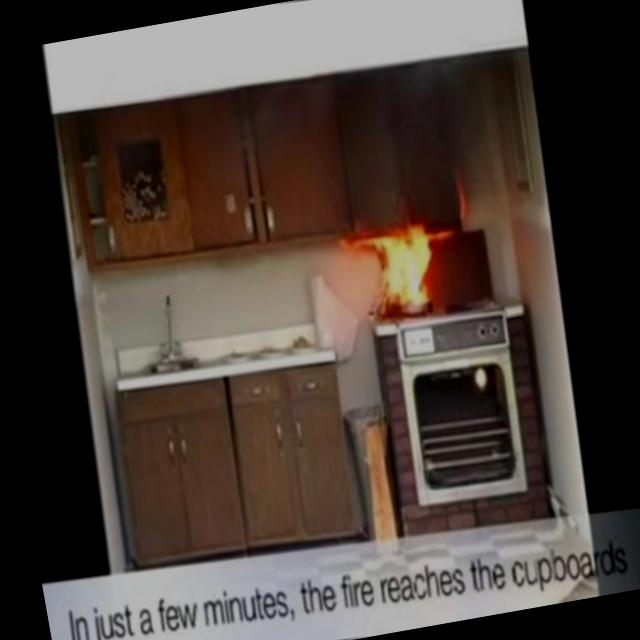fire: (336, 190, 502, 367)
